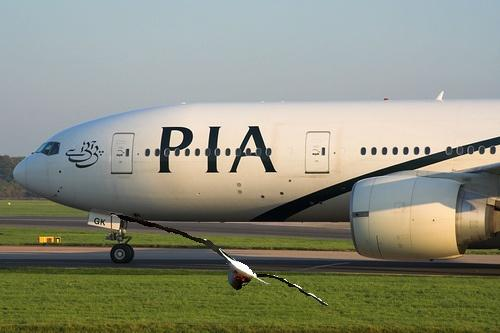tampered: (111, 214, 328, 306)
